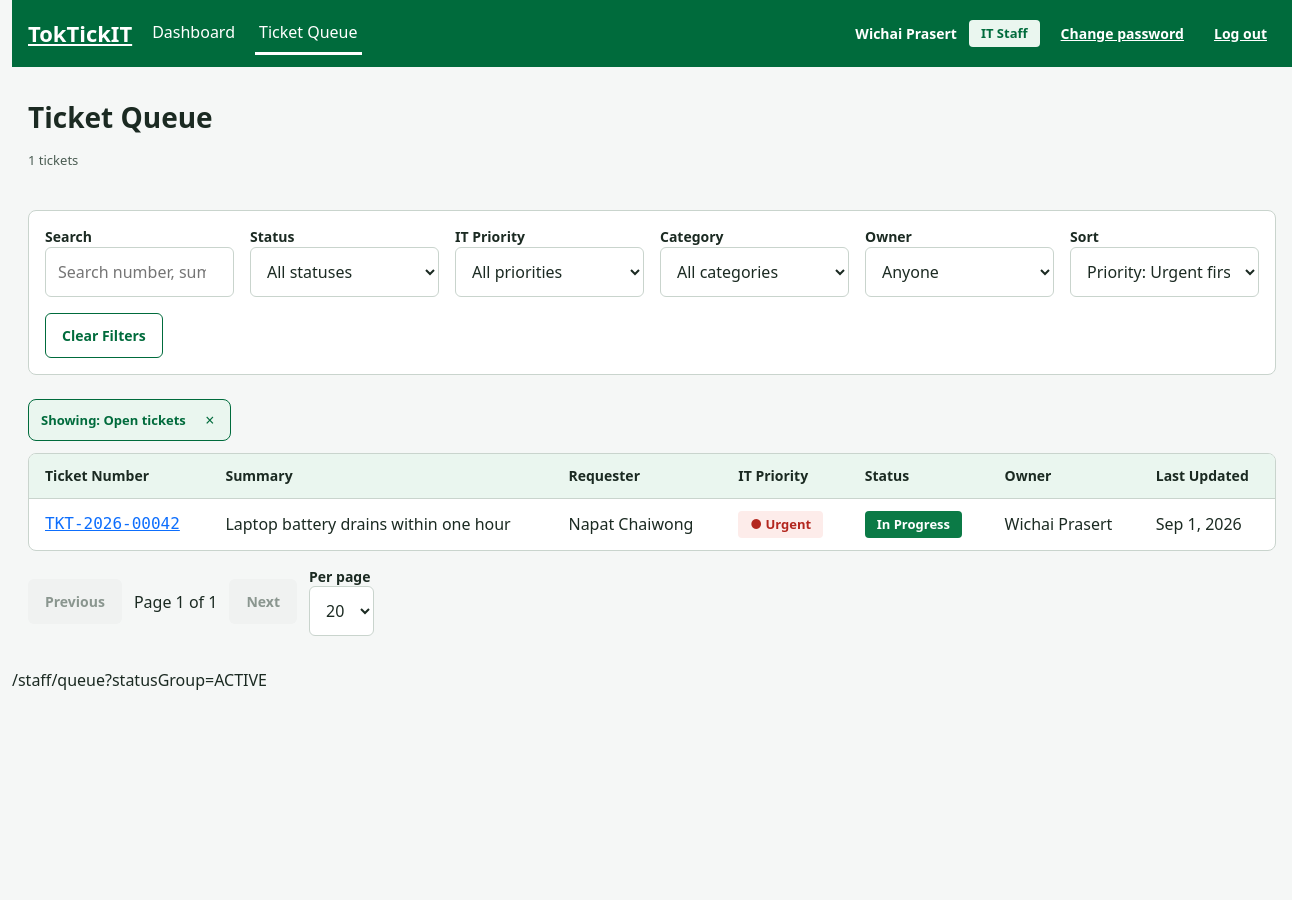
UI-21 (AC-28) - drill-down filter chip › never sends status and statusGroup together: choosing a status on the Queue drops the group
The width and height of the screenshot is (1292, 900).
Expected: the element with test id "staff-queue-screen" is shown, [28, 99, 1276, 636]
Expected: the element with test id "filter-chip" is shown, [28, 399, 231, 441]
Select "Open" in the dropdown with test id "filter-status" at (344, 272), box [250, 247, 439, 297]
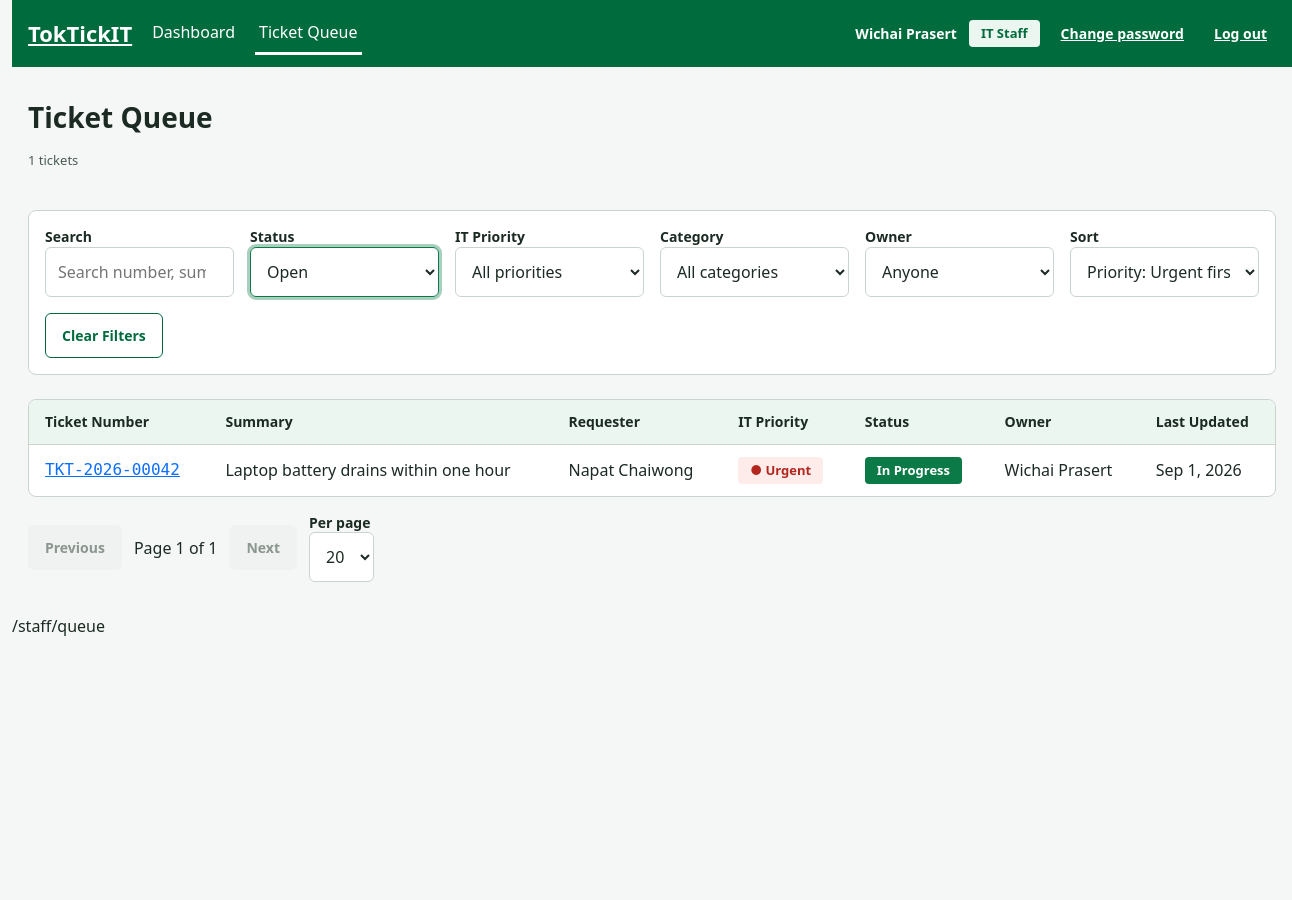
Expected: the element with test id "filter-chip" is gone
